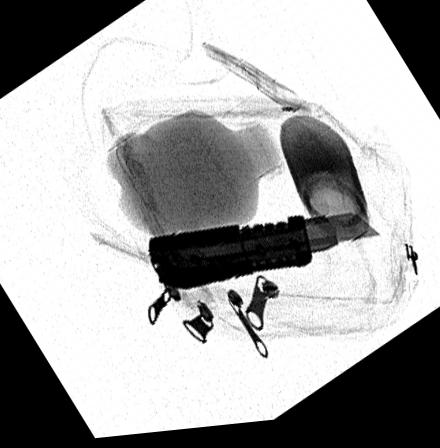Knife: (147, 215, 383, 294)
